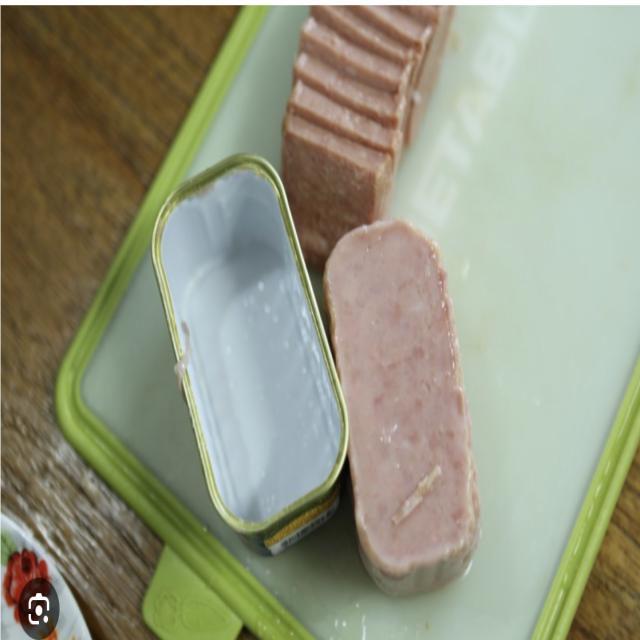recyclable: (151, 131, 357, 558)
